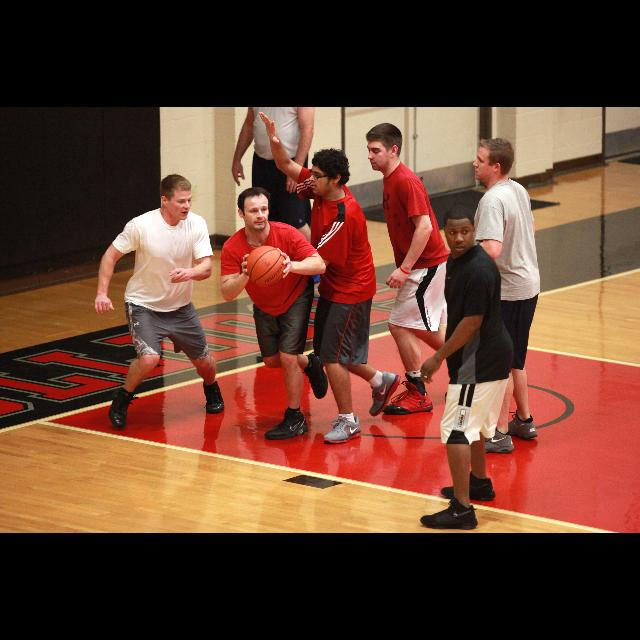head: (366, 122, 404, 172), (472, 140, 514, 182), (443, 207, 477, 257), (310, 154, 348, 196), (159, 175, 193, 221), (237, 188, 270, 230), (270, 106, 294, 118)
person: (255, 110, 402, 446), (92, 172, 226, 430), (365, 120, 477, 416), (419, 207, 513, 533), (218, 185, 330, 441), (460, 136, 542, 454), (230, 106, 318, 288)
